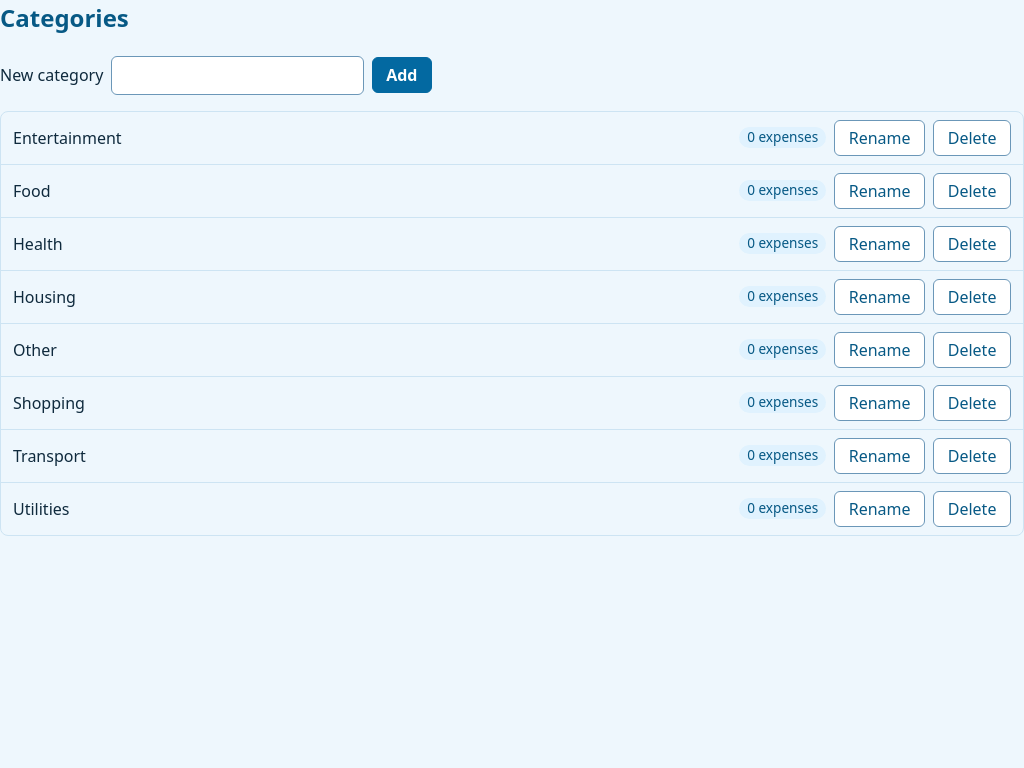
Test: adds, renames and deletes a category, persisting each change
Type "Pets" into the field labelled "New category" at (238,75), box [111,56,364,95]
Then press Enter
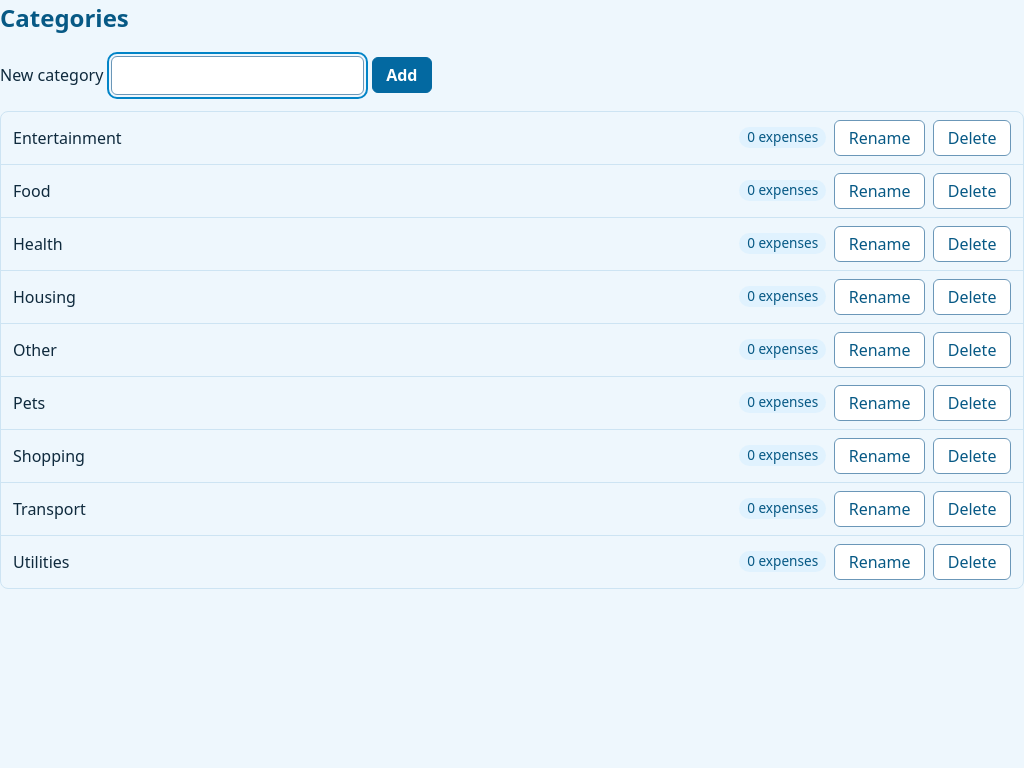
Expected: the text "Pets" is shown, [13,392,45,414]
Click the button with aria-label "Rename Pets" at (880,403), box [834,385,925,421]
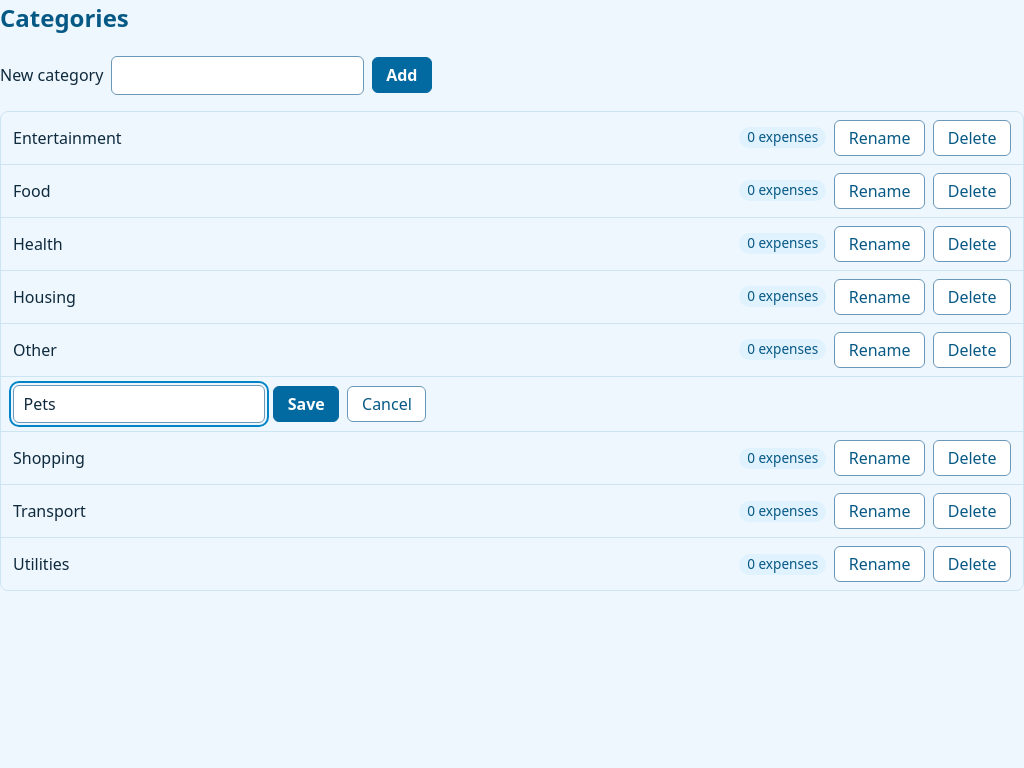
Replace the text in the field named "New name for Pets" with "Animals" at (139,404), box [13,385,265,424]
Then press Enter
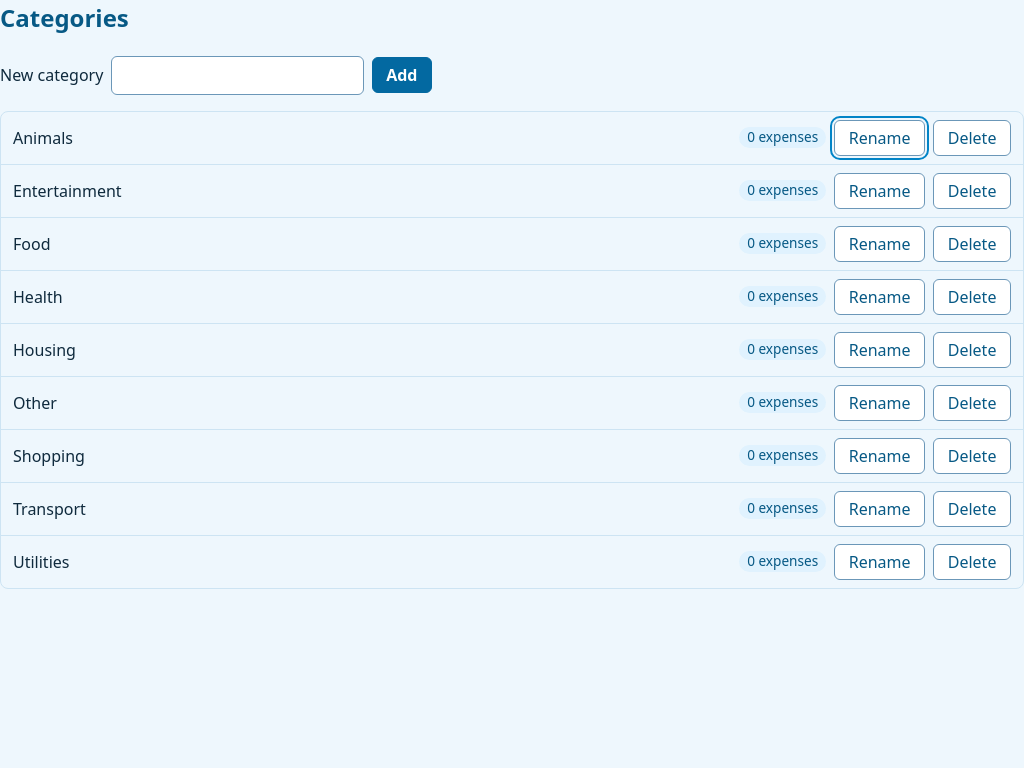
Expected: the text "Animals" is shown, [13,127,73,149]
Click the button with aria-label "Delete Animals" at (972,138), box [933,120,1011,156]
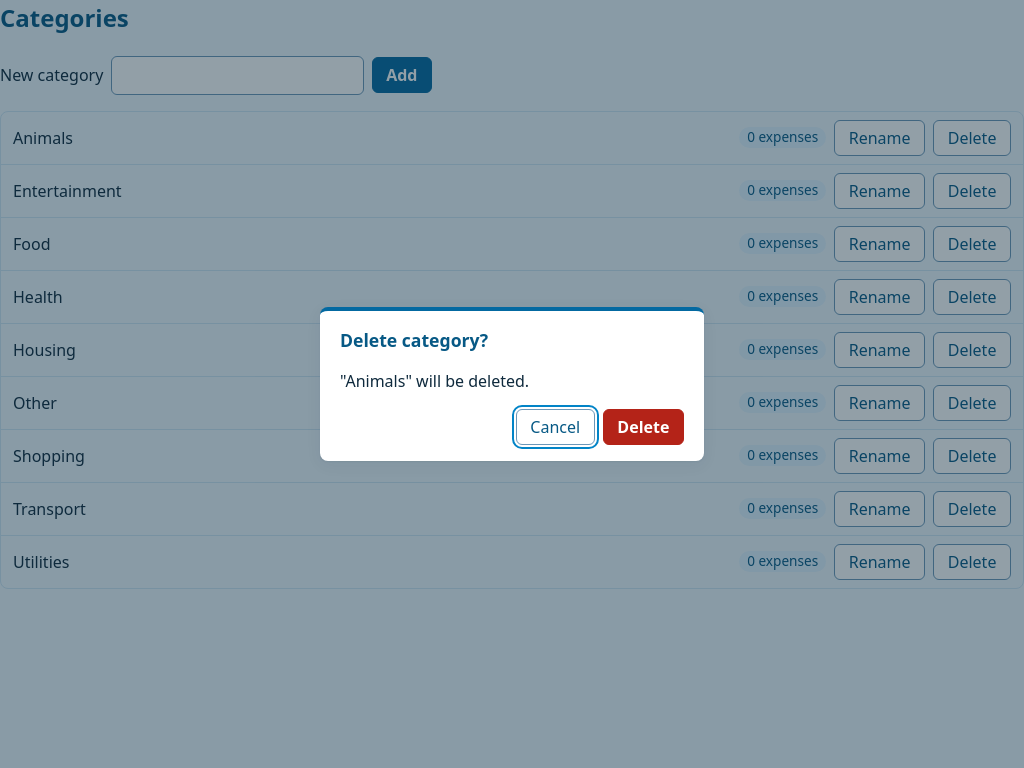
Click the button "Delete" at (643,427), box [603,409,684,445]
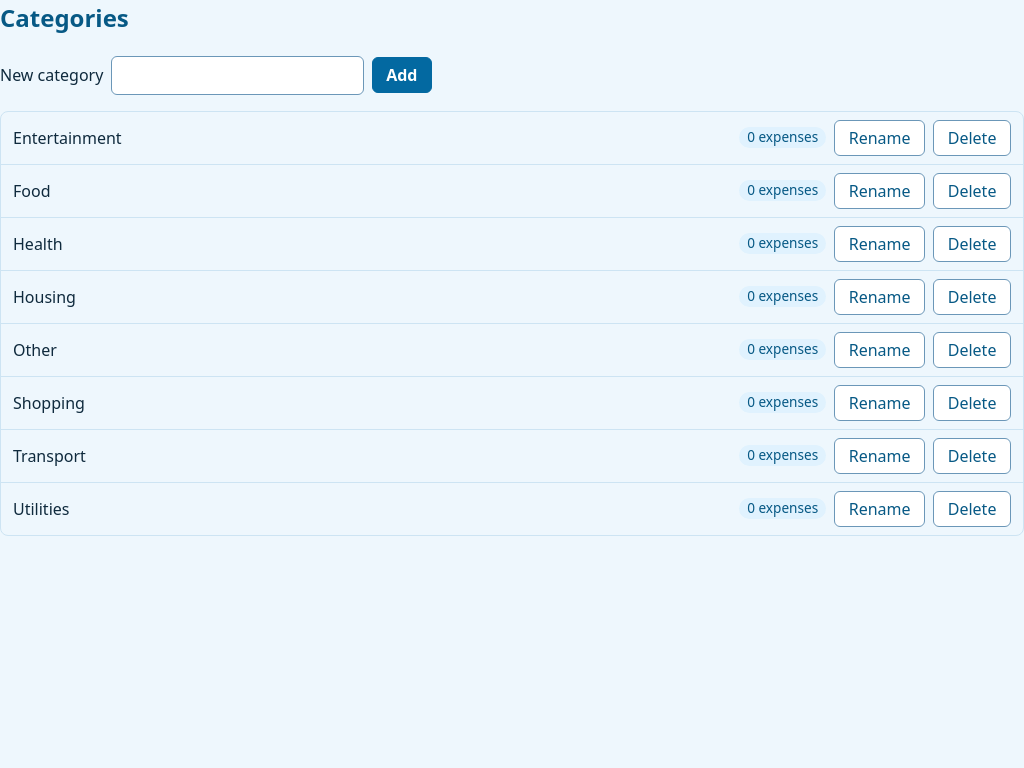
Expected: the text "Animals" is gone
